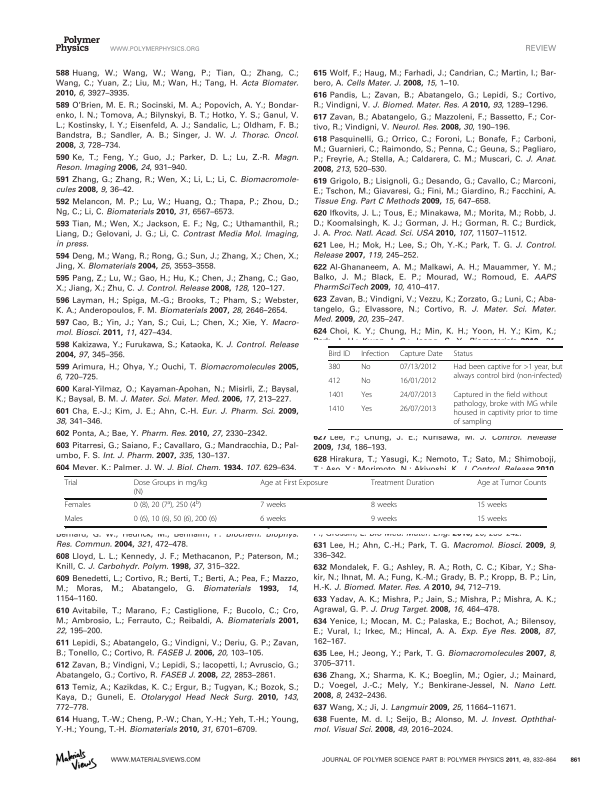borderless: (63, 475, 546, 526), (328, 345, 563, 429)
cell: (452, 390, 558, 427), (452, 362, 563, 381), (133, 479, 208, 497), (133, 515, 218, 525), (133, 499, 202, 511), (476, 479, 547, 488), (259, 479, 329, 488), (370, 479, 435, 488), (399, 349, 443, 358), (399, 362, 437, 372), (399, 376, 437, 386), (399, 390, 437, 400), (399, 404, 437, 414), (476, 501, 508, 511), (476, 515, 508, 525), (259, 501, 287, 511), (370, 501, 398, 511), (259, 515, 287, 525), (370, 515, 398, 525), (64, 501, 91, 511), (360, 349, 390, 358), (63, 515, 84, 525), (328, 349, 351, 358), (452, 349, 474, 358), (328, 390, 345, 400), (328, 404, 345, 414), (328, 362, 341, 372), (328, 376, 341, 386), (360, 390, 373, 400), (360, 404, 373, 414), (64, 479, 78, 488), (360, 362, 371, 372), (360, 376, 371, 386)
